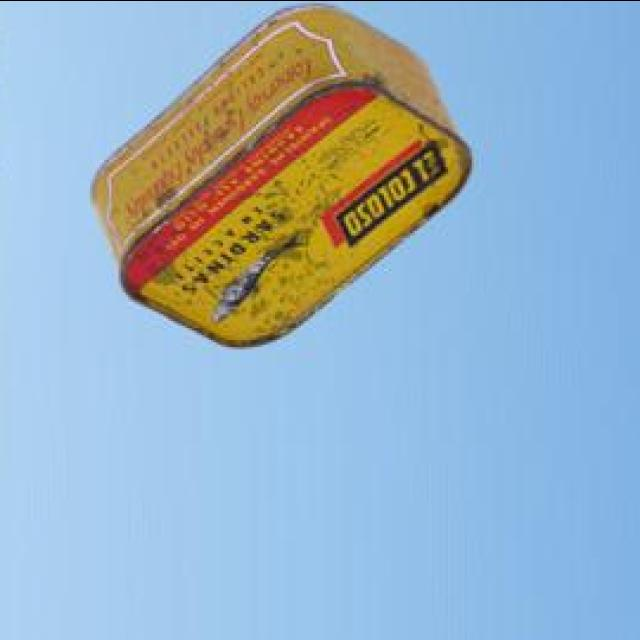logam: (96, 0, 475, 343)
